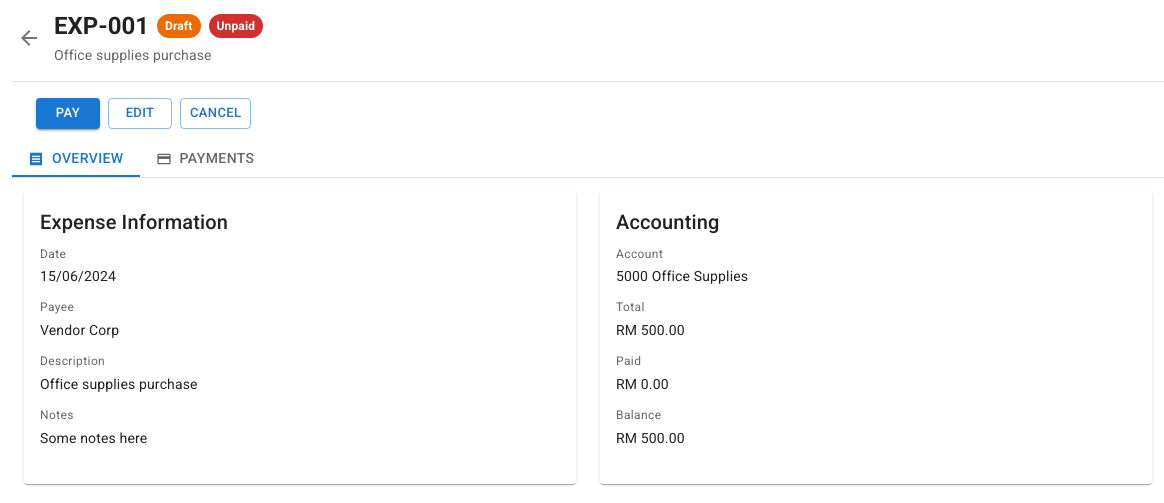
ExpenseDetailPage › Payments tab › shows empty state when no payments
Click the tab "Payments".
click(205, 159)  # box [140,141,270,177]
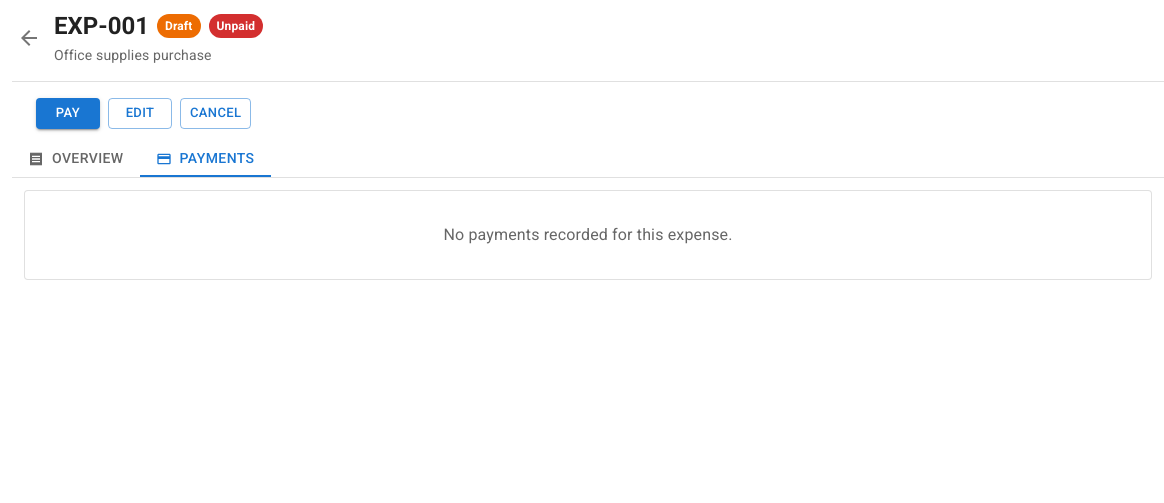
Now the text "No payments recorded for this expense." is shown, box [443,225,732,244]
